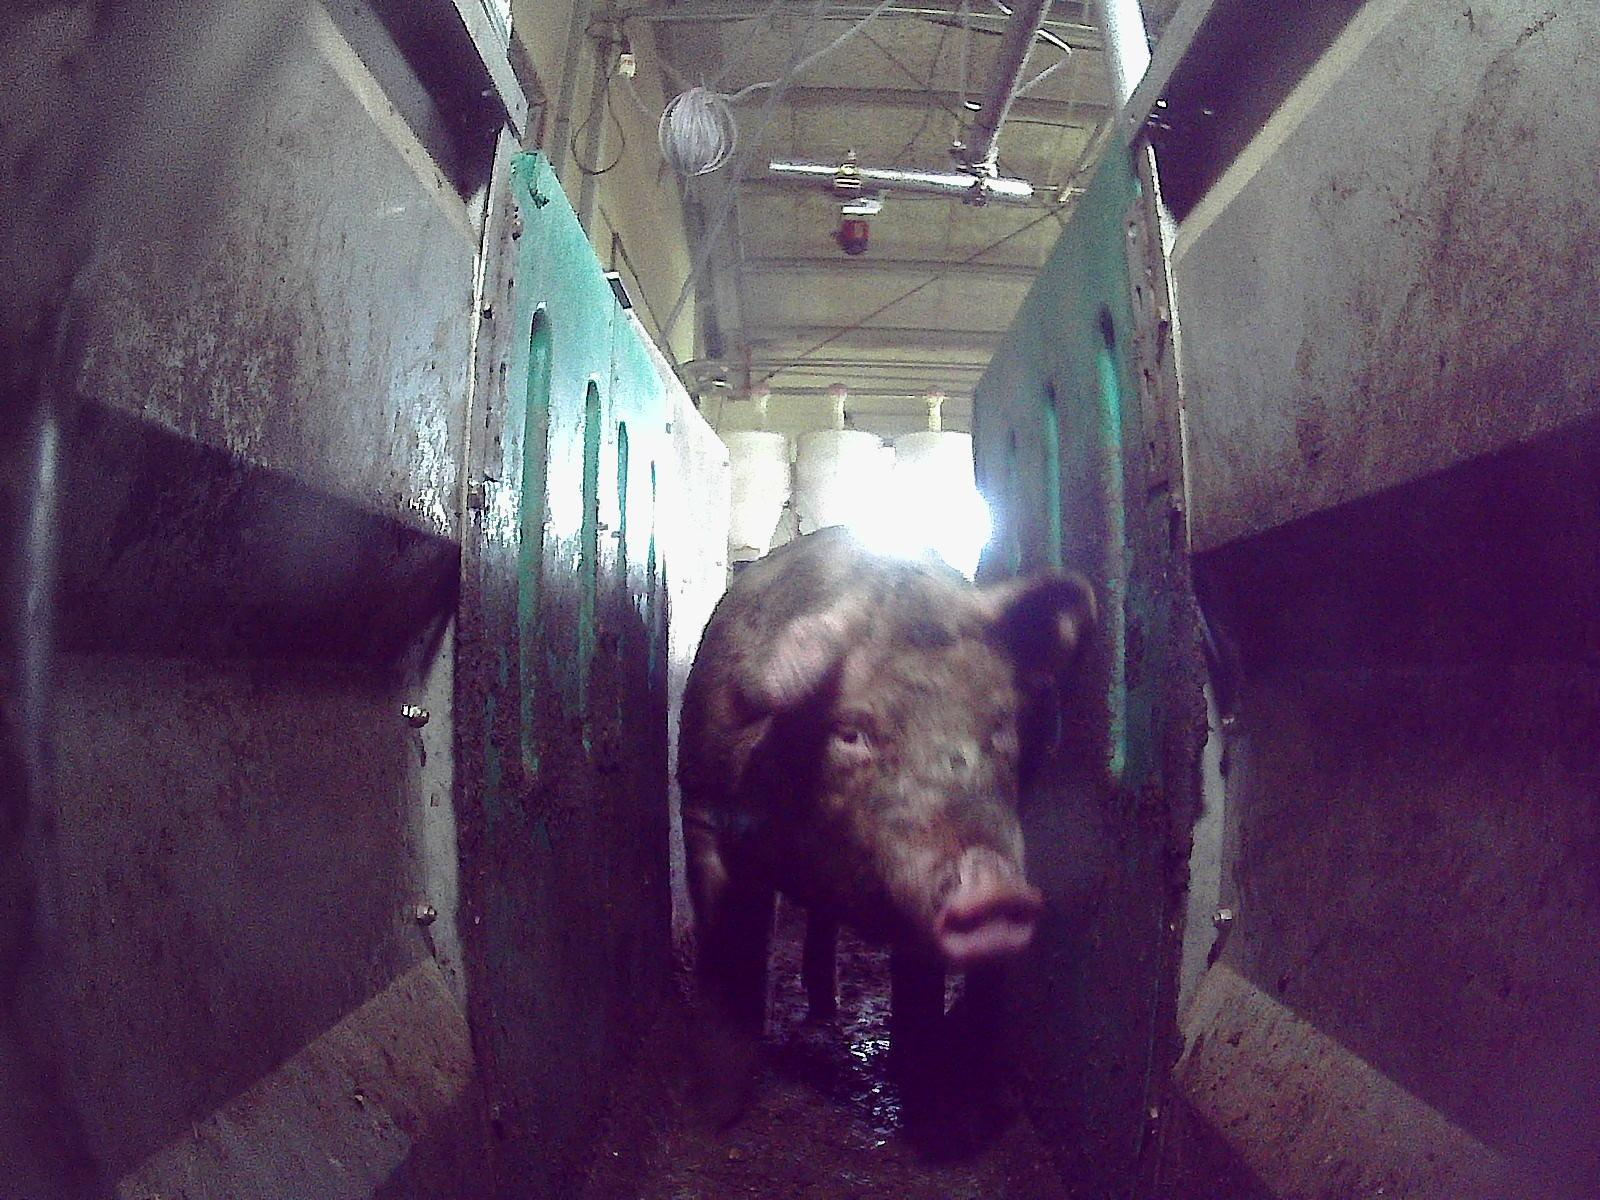Face: (816, 608, 1043, 959)
